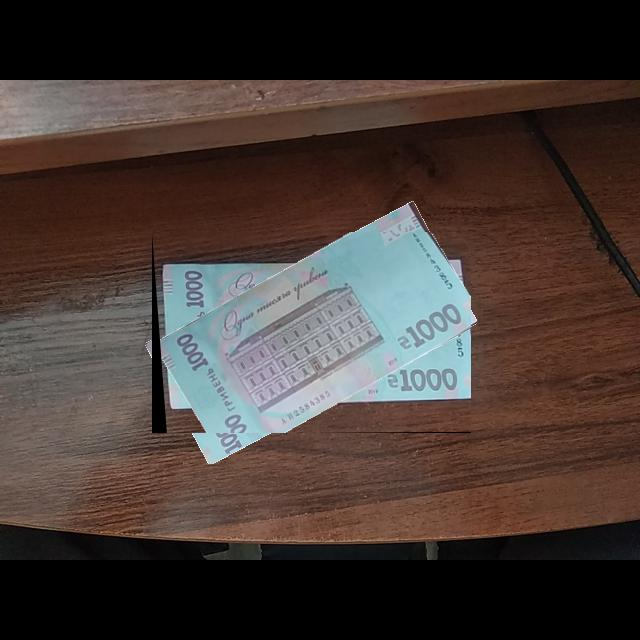1000uah: (152, 232, 472, 434)
